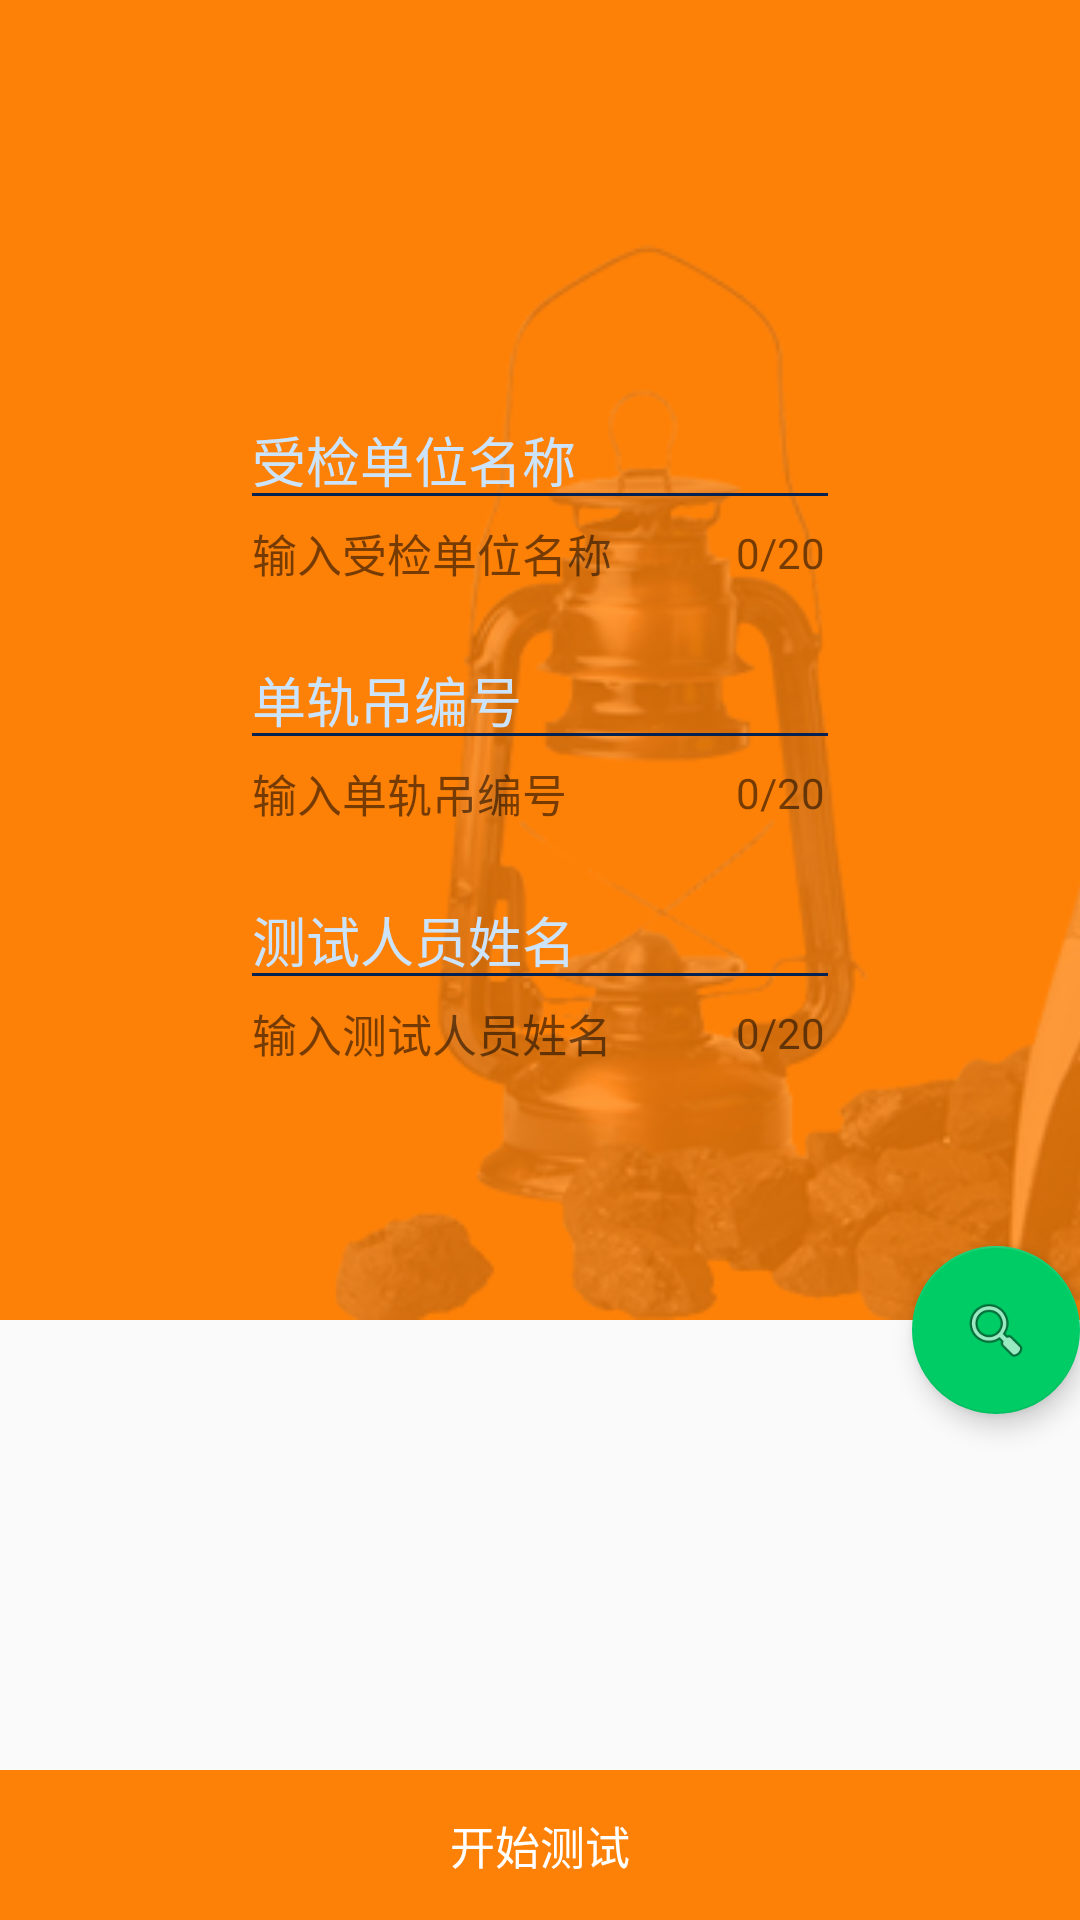

Icons on this 1080 × 1920 Android screen, each with the point to tap as (x=x, y=y):
search: (x=996, y=1330)
